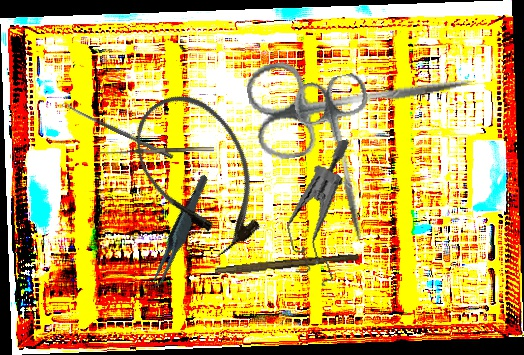Cannula: (116, 77, 285, 268)
Hook Surgical: (99, 146, 215, 161)
Iris Scissors: (243, 30, 480, 164), (290, 70, 399, 249)
Scalpel Handle: (214, 250, 360, 279)
Speculum: (267, 138, 381, 293)
Surgical Spoon: (62, 101, 174, 160)
Tissue Forceps: (126, 173, 231, 293)
